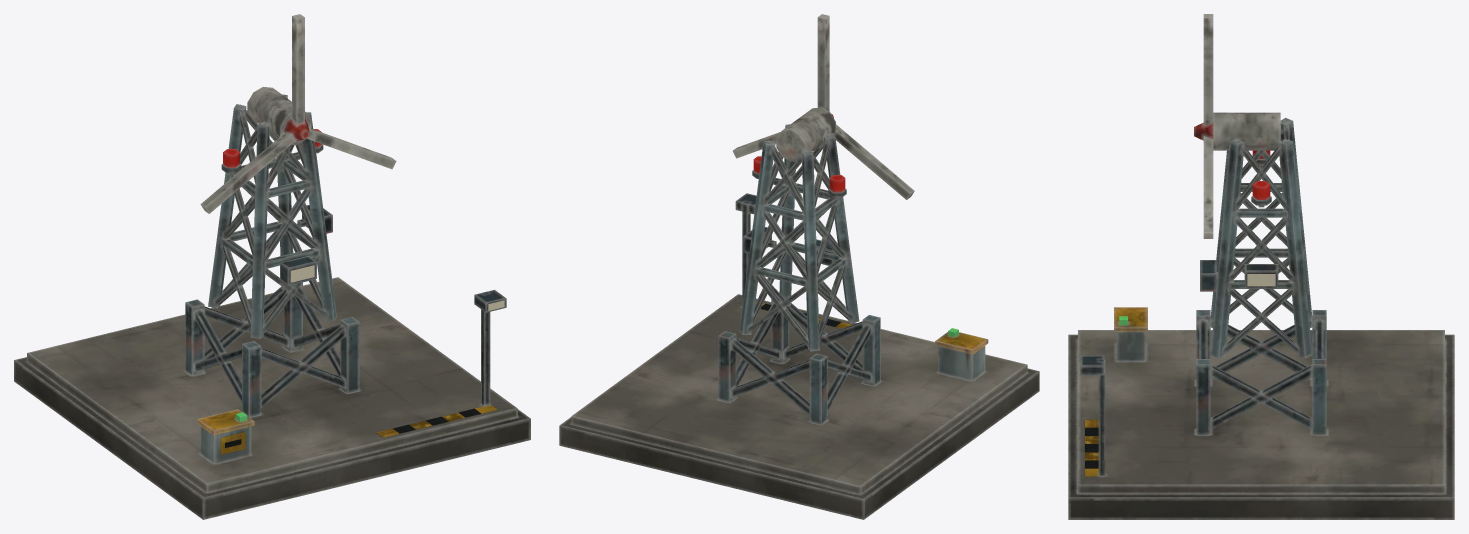
File: wind_turbine.glb
The picture shows the model from 3 angles, left to right: view 1: azimuth 30°, elevation 25°; view 2: azimuth 150°, elevation 25°; view 3: azimuth 270°, elevation 25°; orthographic projection. The views are drawn at different scales.
Visible parts, largest first — view 1: te_wind_turbine, move_rotor; view 2: te_wind_turbine, move_rotor; view 3: te_wind_turbine, move_rotor.
Boxes of the visible parts, x1,y1,x2,y2 form: te_wind_turbine: [14, 86, 530, 519]; move_rotor: [200, 14, 396, 213]; te_wind_turbine: [559, 107, 1039, 519]; move_rotor: [733, 14, 914, 199]; te_wind_turbine: [1068, 112, 1454, 519]; move_rotor: [1194, 14, 1213, 238].
Size of the model in its own units: 0.8 by 0.964 by 0.8.
Materials: 1 (1 with a texture image).
